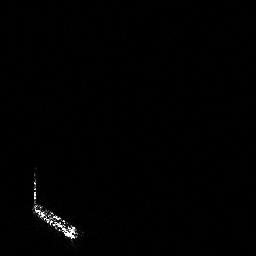ship: (28, 167, 81, 241)
